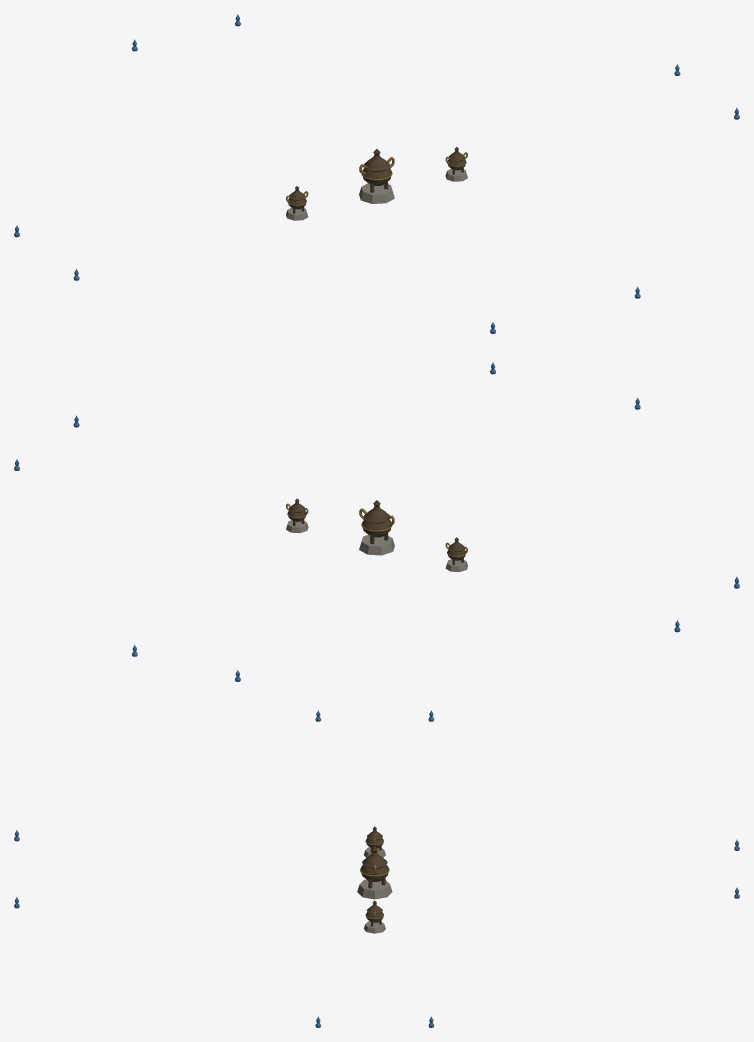
The model's file is namgiao-hero.glb.
3 views of the same model, one above another, from view 1: azimuth 30°, elevation 25°; view 2: azimuth 150°, elevation 25°; view 3: azimuth 270°, elevation 25° (orthographic). The views are drawn at different scales.
Visible parts, largest first — view 1: namgiao_hero_ornaments; view 2: namgiao_hero_ornaments; view 3: namgiao_hero_ornaments.
Part boxes in pixels (<box>): namgiao_hero_ornaments: <box>14,14,739,333</box>; namgiao_hero_ornaments: <box>14,362,739,681</box>; namgiao_hero_ornaments: <box>14,710,739,1027</box>.
Size of the model in its own units: 40.03 by 2.73 by 39.81.
